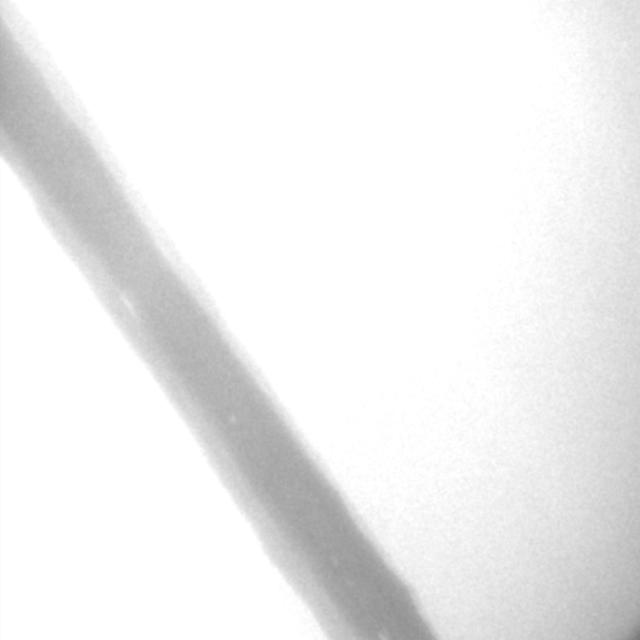air hole: (124, 295, 137, 318), (228, 413, 236, 424)
